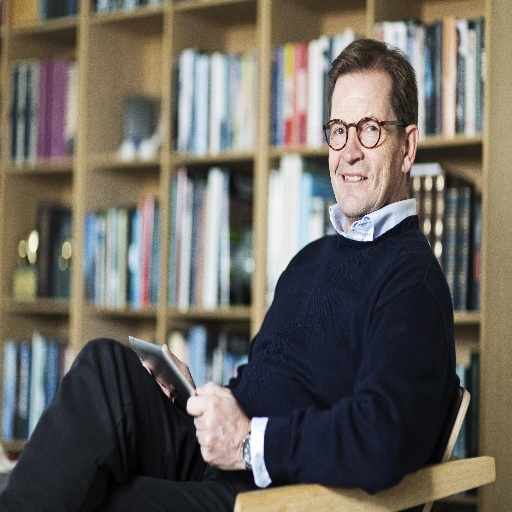hand: (183, 379, 251, 471), (142, 343, 196, 405)
